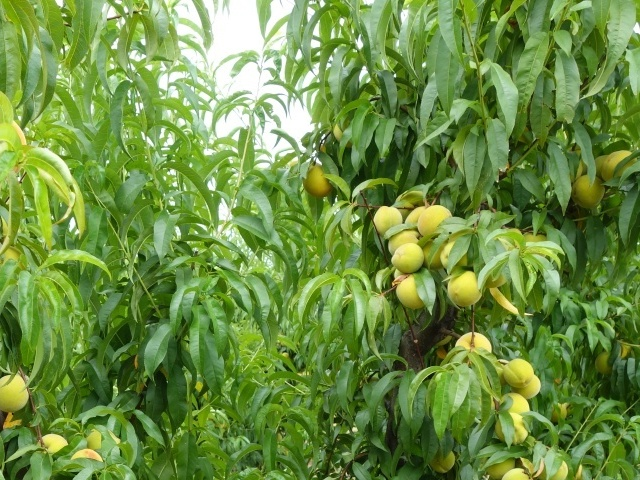peach: (444, 266, 485, 311), (452, 328, 496, 366), (492, 411, 533, 447), (569, 171, 607, 209), (1, 366, 33, 411), (33, 428, 70, 466), (386, 240, 426, 275), (395, 272, 430, 311), (302, 160, 338, 197), (369, 202, 405, 239), (393, 184, 428, 221), (501, 354, 537, 389), (438, 236, 473, 271), (602, 147, 639, 178), (384, 226, 423, 255), (498, 388, 534, 418), (68, 444, 106, 471), (426, 443, 456, 477), (515, 371, 546, 403), (487, 456, 522, 479), (592, 349, 617, 376), (498, 462, 535, 480), (549, 399, 571, 424)
